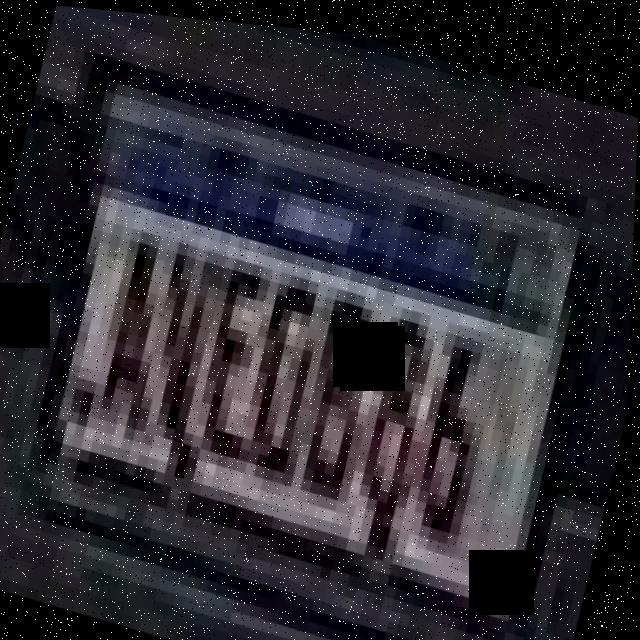0: (236, 259, 337, 487)
6: (401, 311, 512, 549)
8: (286, 275, 397, 511), (346, 290, 452, 527)
A: (91, 216, 185, 443)
E: (181, 237, 288, 471)
V: (132, 231, 230, 458)
